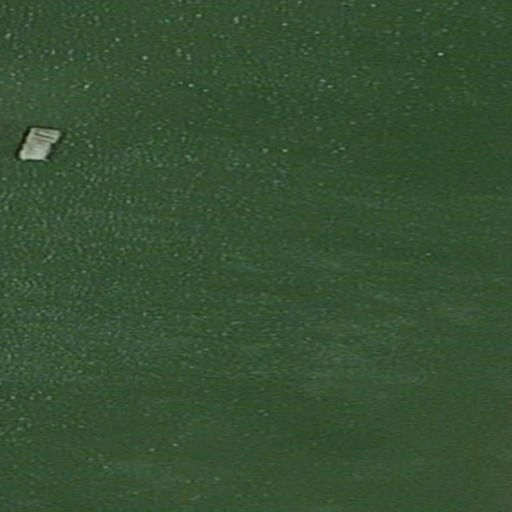ship: (15, 125, 63, 166)
